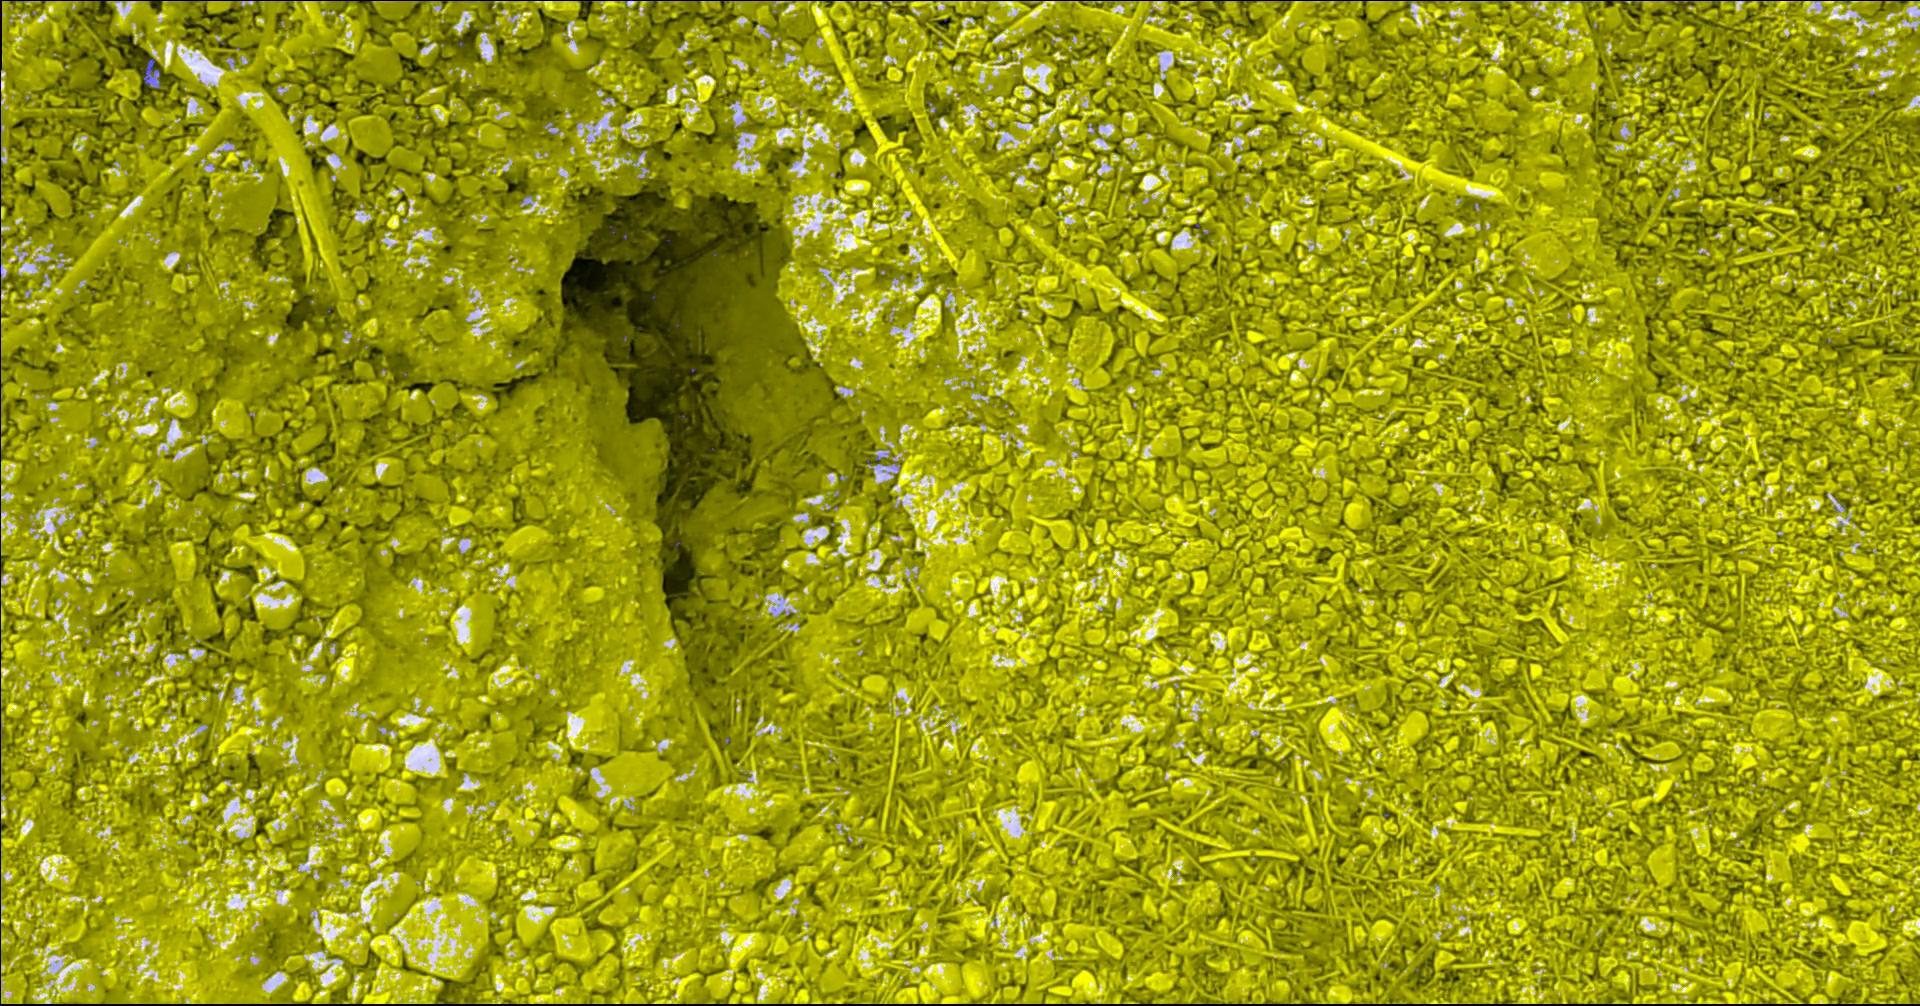ant: (142, 58, 159, 84)
